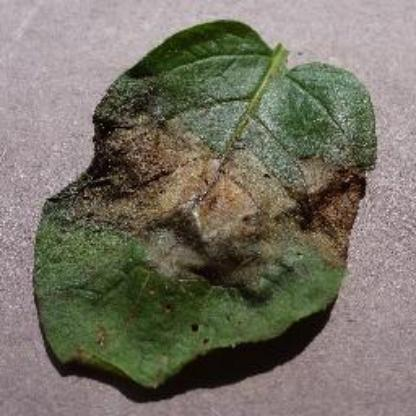Late-Blight: (25, 24, 399, 380)
